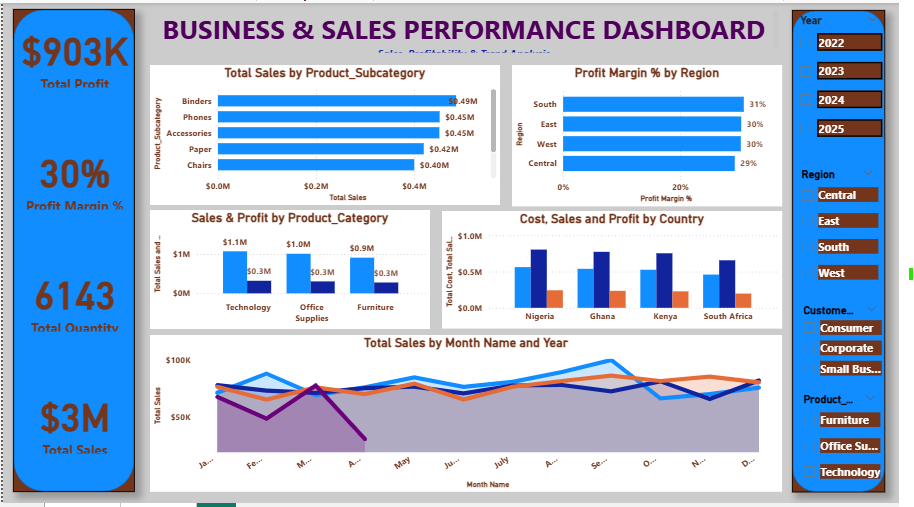

Layout of this report page (visuals, bound fields, positions):
{"tool":"powerbi","page":{"name":"Page 1","canvas":[1280,720],"ordinal":0},"visuals":[{"type":"shape","box":[13.9,14,173.8,690],"z":0},{"type":"card","fields":{"Values":["Business_Sales_Data.Profit Margin %"]},"box":[19.6,206,165,100.1],"z":1000},{"type":"card","fields":{"Values":["Business_Sales_Data.Total Profit"]},"box":[19.6,31.6,165,100.1],"z":2000},{"type":"card","fields":{"Values":["Business_Sales_Data.Total Quantity"]},"box":[19.6,380.4,165,100.1],"z":3000},{"type":"card","fields":{"Values":["Business_Sales_Data.Total Sales"]},"box":[19.6,554.8,165,100.1],"z":4000},{"type":"lineChart","fields":{"Category":["Business_Sales_Data.Month Name"],"Y":["Business_Sales_Data.Total Sales"],"Series":["Business_Sales_Data.Year"]},"box":[210.4,480.4,903,224.4],"z":5000},{"type":"clusteredColumnChart","title":"Sales & Profit by Product_Category","fields":{"Category":["Business_Sales_Data.Product_Category"],"Y":["Business_Sales_Data.Total Sales","Business_Sales_Data.Total Profit"]},"box":[210.4,301.6,399.8,170.1],"z":6000},{"type":"barChart","fields":{"Y":["Business_Sales_Data.Profit Margin %"],"Category":["Business_Sales_Data.Region"]},"box":[727.7,94.7,385.8,201.6],"z":7000},{"type":"barChart","fields":{"Category":["Business_Sales_Data.Product_Subcategory"],"Y":["Business_Sales_Data.Total Sales"]},"box":[210.4,94.7,499.7,199.9],"z":8000},{"type":"shape","box":[1127.5,15.8,133.3,689.1],"z":8500},{"type":"clusteredColumnChart","title":"Cost, Sales and Profit by Country","fields":{"Category":["Business_Sales_Data.Country"],"Y":["Business_Sales_Data.Total Cost","Business_Sales_Data.Total Sales","Business_Sales_Data.Total Profit"]},"box":[627.7,303.3,485.7,168.3],"z":9000},{"type":"slicer","fields":{"Values":["Business_Sales_Data.Region"]},"box":[1129.2,233.2,126.2,198.1],"z":11000},{"type":"slicer","fields":{"Values":["Business_Sales_Data.Year"]},"box":[1127.5,12.3,133.3,205.2],"z":12000},{"type":"slicer","fields":{"Values":["Business_Sales_Data.Customer_Segment"]},"box":[1131,433.1,128,121],"z":13000},{"type":"slicer","fields":{"Values":["Business_Sales_Data.Product_Category"]},"box":[1131,561.1,126.2,142],"z":14000},{"type":"textbox","box":[210,11.7,903.3,70],"z":15000}]}

Visuals, with their boxes in screenshot pixels (x1, y1, x2, y2), scaled from the page's 1280x720 canvas onto the 914x507 screenshot:
shape: {"x1": 10, "y1": 10, "x2": 134, "y2": 496}
card - Business_Sales_Data.Profit Margin %: {"x1": 14, "y1": 145, "x2": 132, "y2": 216}
card - Business_Sales_Data.Total Profit: {"x1": 14, "y1": 22, "x2": 132, "y2": 93}
card - Business_Sales_Data.Total Quantity: {"x1": 14, "y1": 268, "x2": 132, "y2": 338}
card - Business_Sales_Data.Total Sales: {"x1": 14, "y1": 391, "x2": 132, "y2": 461}
lineChart - Business_Sales_Data.Month Name x Business_Sales_Data.Total Sales: {"x1": 150, "y1": 338, "x2": 795, "y2": 496}
"Sales & Profit by Product_Category" clusteredColumnChart: {"x1": 150, "y1": 212, "x2": 436, "y2": 332}
barChart - Business_Sales_Data.Profit Margin % x Business_Sales_Data.Region: {"x1": 520, "y1": 67, "x2": 795, "y2": 209}
barChart - Business_Sales_Data.Product_Subcategory x Business_Sales_Data.Total Sales: {"x1": 150, "y1": 67, "x2": 507, "y2": 207}
shape: {"x1": 805, "y1": 11, "x2": 900, "y2": 496}
"Cost, Sales and Profit by Country" clusteredColumnChart: {"x1": 448, "y1": 214, "x2": 795, "y2": 332}
slicer - Business_Sales_Data.Region: {"x1": 806, "y1": 164, "x2": 896, "y2": 304}
slicer - Business_Sales_Data.Year: {"x1": 805, "y1": 9, "x2": 900, "y2": 153}
slicer - Business_Sales_Data.Customer_Segment: {"x1": 808, "y1": 305, "x2": 899, "y2": 390}
slicer - Business_Sales_Data.Product_Category: {"x1": 808, "y1": 395, "x2": 898, "y2": 495}
textbox: {"x1": 150, "y1": 8, "x2": 795, "y2": 58}
